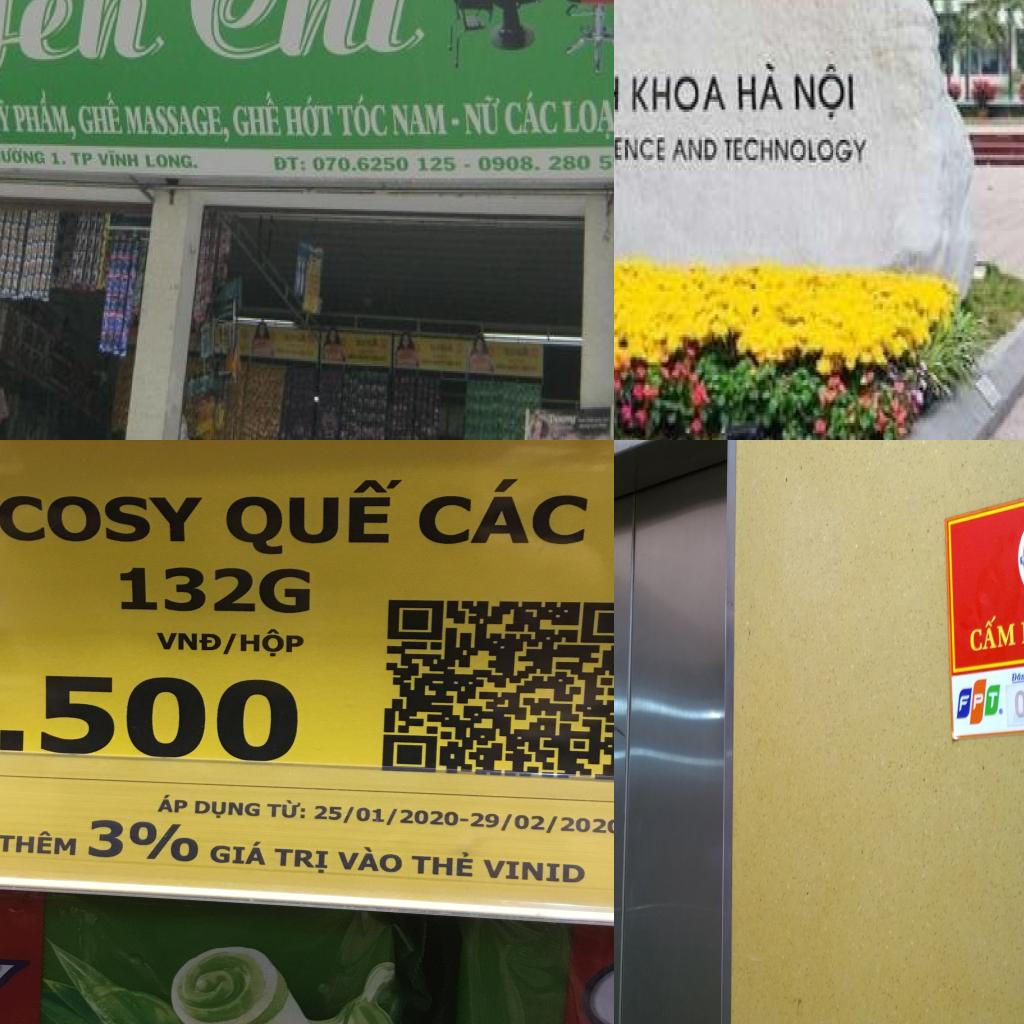text: (0, 667, 303, 764), (180, 0, 431, 67), (0, 0, 168, 98), (223, 475, 406, 557), (414, 475, 594, 547), (0, 494, 206, 544), (118, 566, 313, 616), (86, 816, 209, 864), (122, 103, 234, 148), (12, 83, 82, 144), (792, 62, 856, 124), (630, 72, 728, 112), (469, 810, 614, 837), (312, 803, 460, 829), (310, 154, 460, 175), (503, 86, 561, 139), (476, 153, 614, 175), (228, 86, 284, 139), (389, 100, 462, 139), (482, 858, 587, 885), (736, 59, 786, 112), (336, 90, 390, 139), (559, 94, 614, 142), (282, 91, 336, 139), (74, 90, 126, 138), (967, 610, 1019, 656), (153, 630, 239, 657), (0, 827, 79, 856), (240, 627, 308, 658), (334, 845, 403, 874), (461, 93, 503, 139), (410, 850, 474, 878), (207, 838, 269, 866), (193, 799, 263, 821), (614, 134, 668, 162), (669, 135, 719, 165), (273, 848, 330, 874), (0, 144, 48, 168), (144, 151, 201, 171), (95, 148, 142, 172), (266, 798, 307, 820), (270, 154, 308, 175), (155, 794, 190, 814), (0, 96, 13, 135), (68, 151, 97, 168), (48, 149, 70, 170), (1010, 670, 1024, 684)
